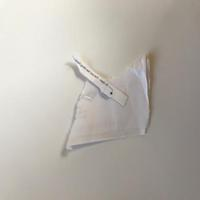paper: (61, 51, 153, 151)
